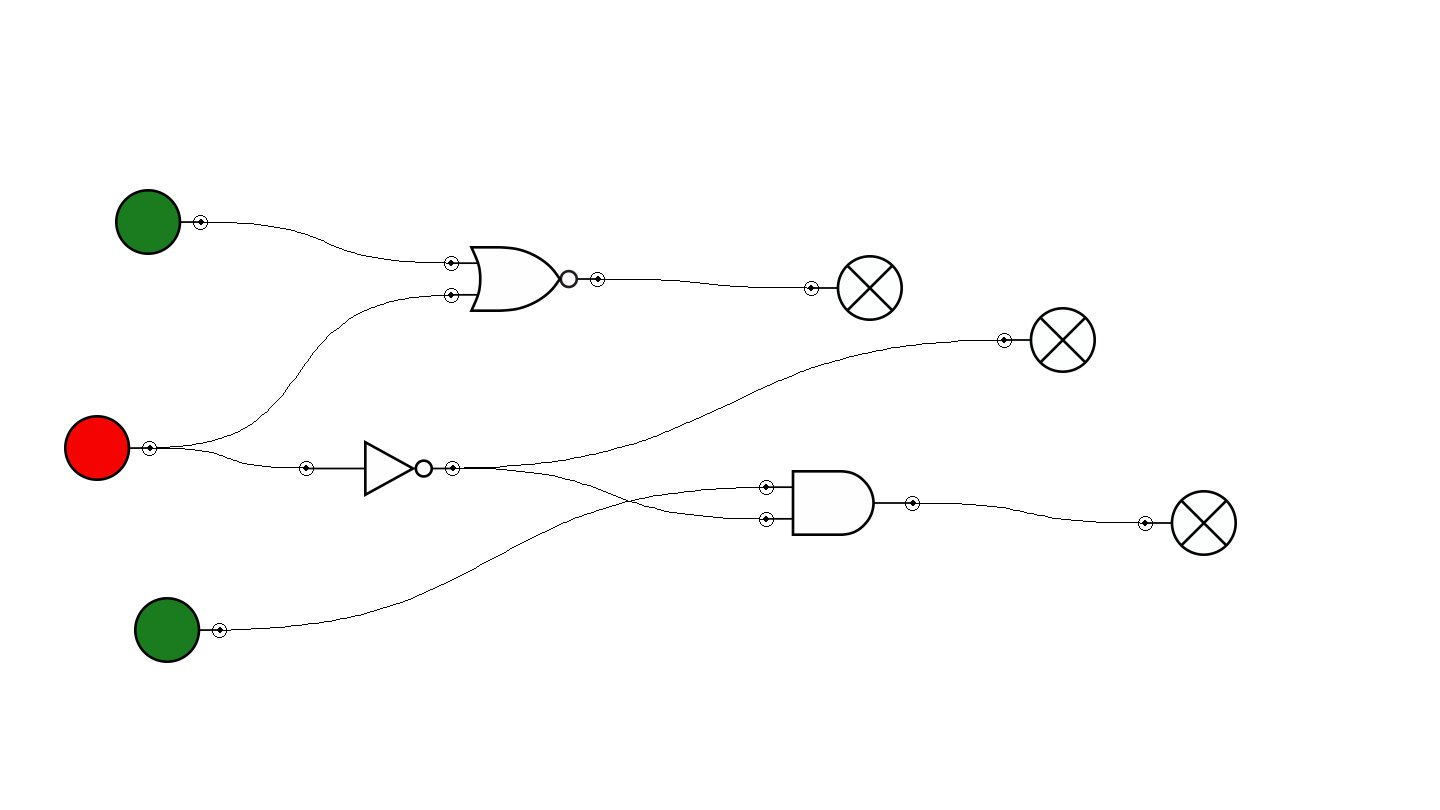and: (759, 470, 920, 536)
bulb: (1138, 490, 1237, 556), (997, 307, 1096, 373), (804, 255, 903, 321)
nor: (444, 246, 605, 312)
not: (299, 440, 460, 497)
switch_False: (64, 415, 157, 481)
switch_True: (134, 597, 227, 663), (115, 189, 208, 255)
